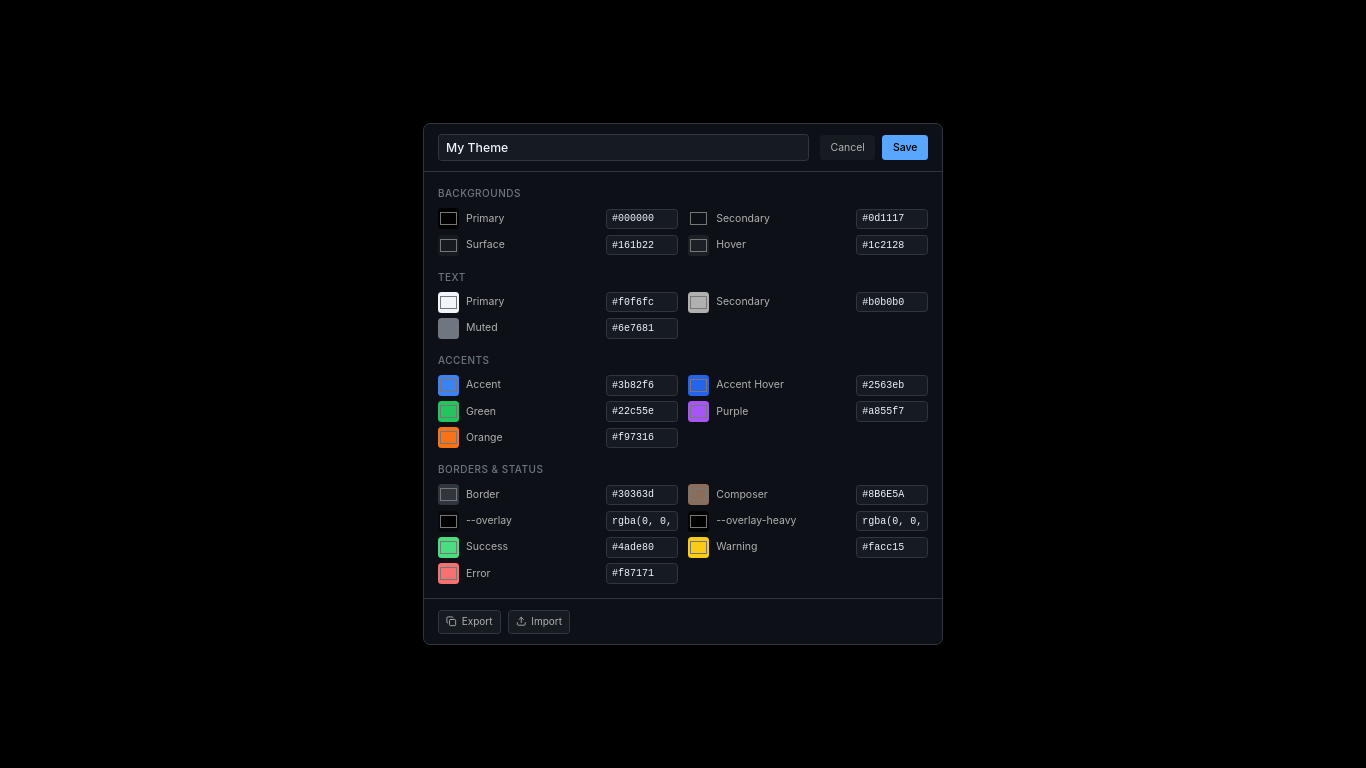
Test: ThemeEditorModal › shows error for invalid import JSON
Click the button "Import" at (539,622), box [508,610,570,634]
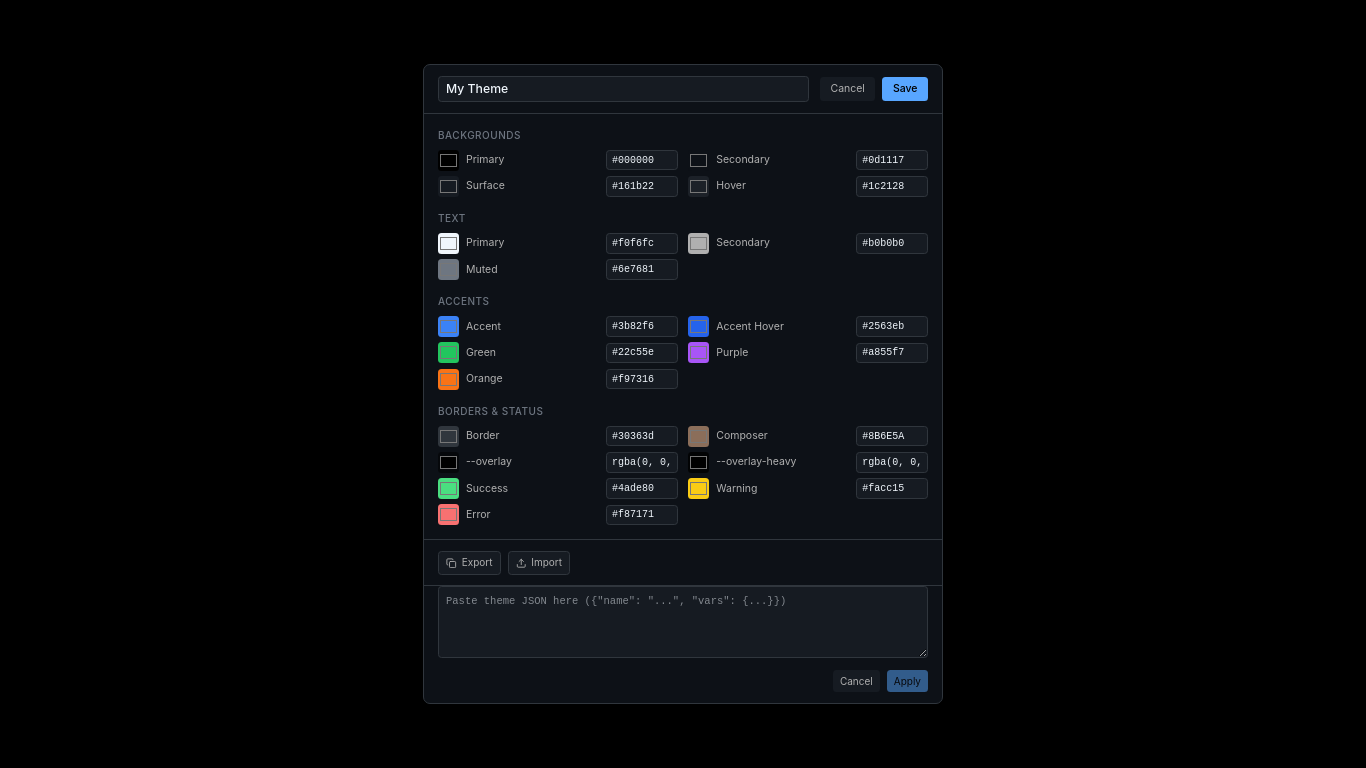
Type "not json" into the text box with placeholder "Paste theme JSON here ({\"name\": \"...\", \"vars\": {...}})" at (683,622), box [438,586,928,658]
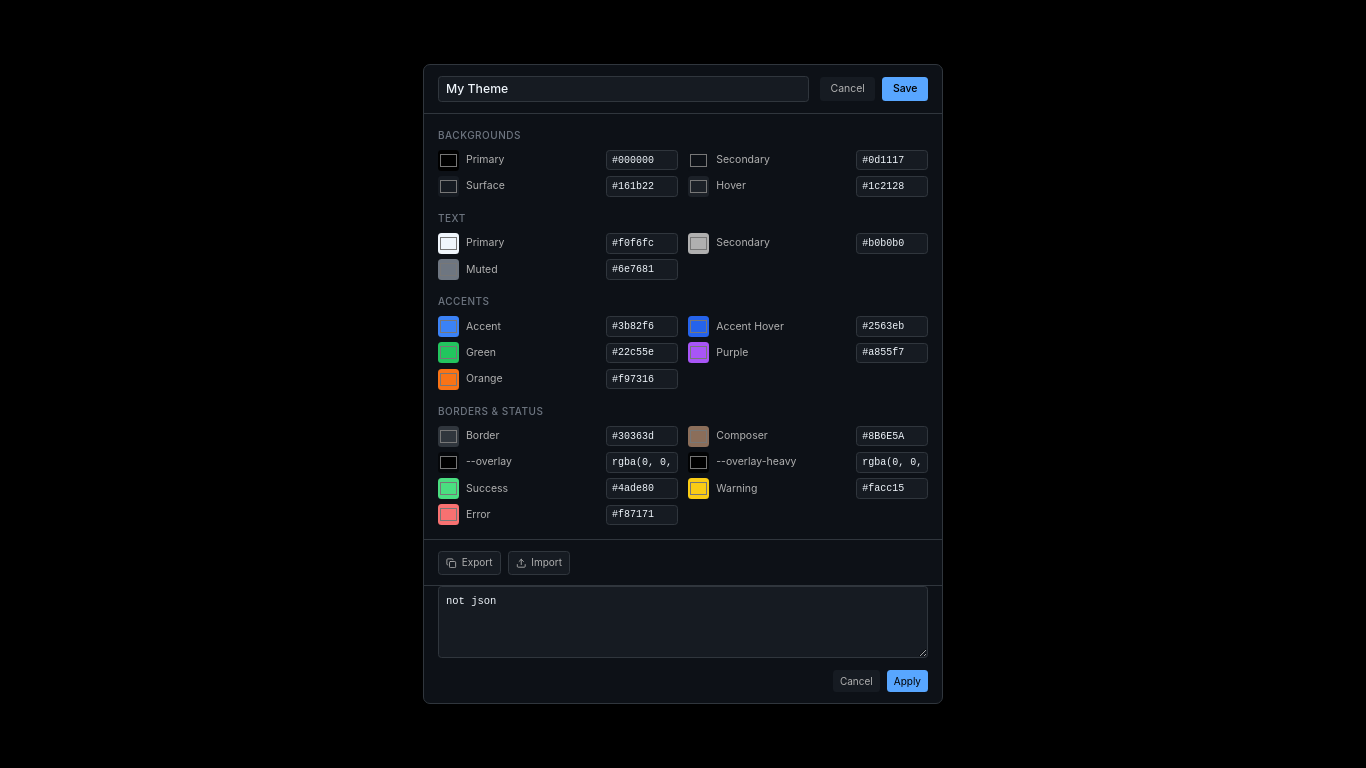
Click the button "Apply" at (907,681), box [887,670,928,692]
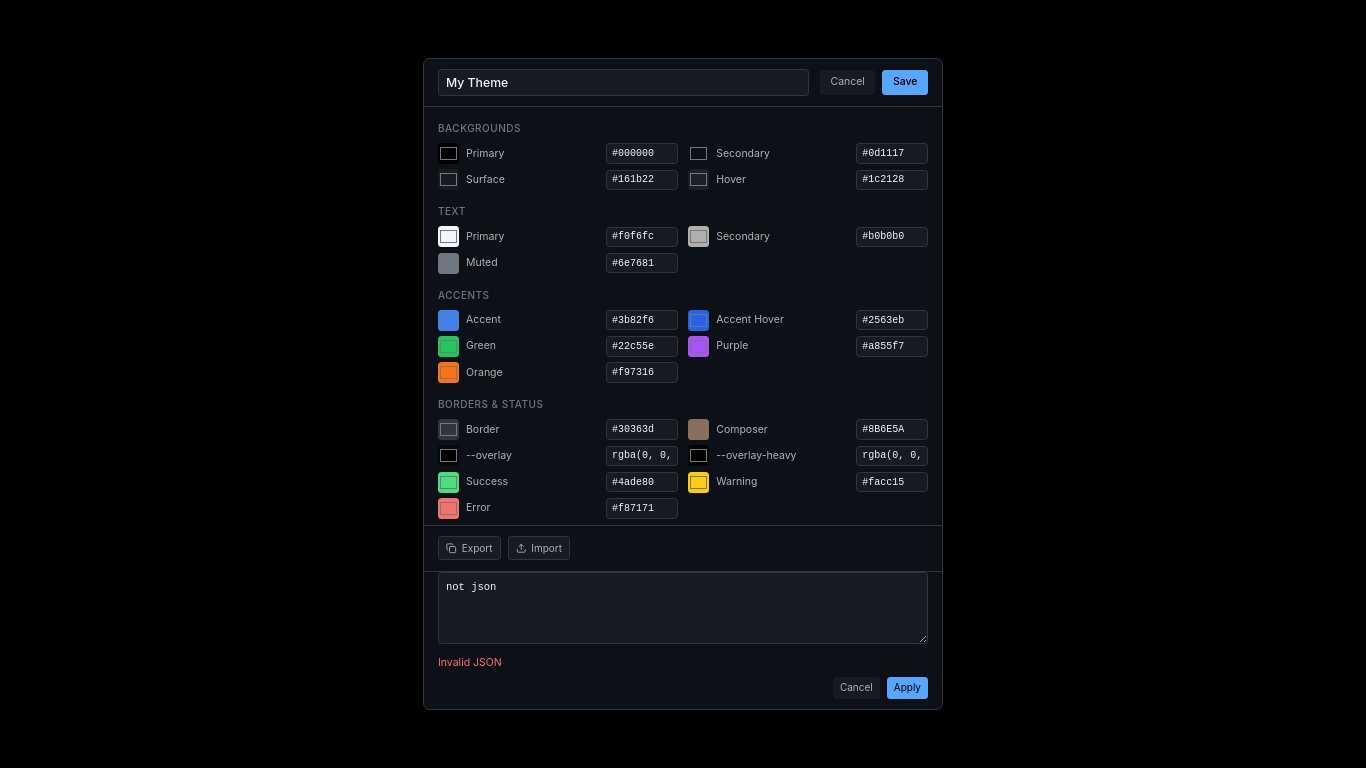
Check: the text "Invalid JSON" is shown, box [438,656,502,669]
